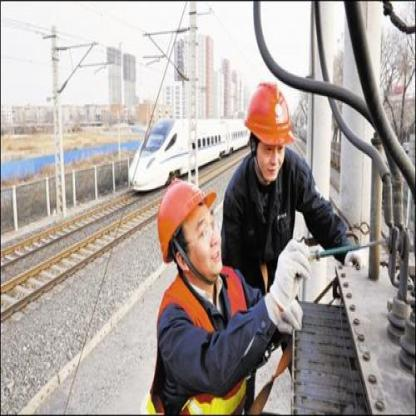helmet: (148, 173, 223, 281), (238, 77, 294, 180)
